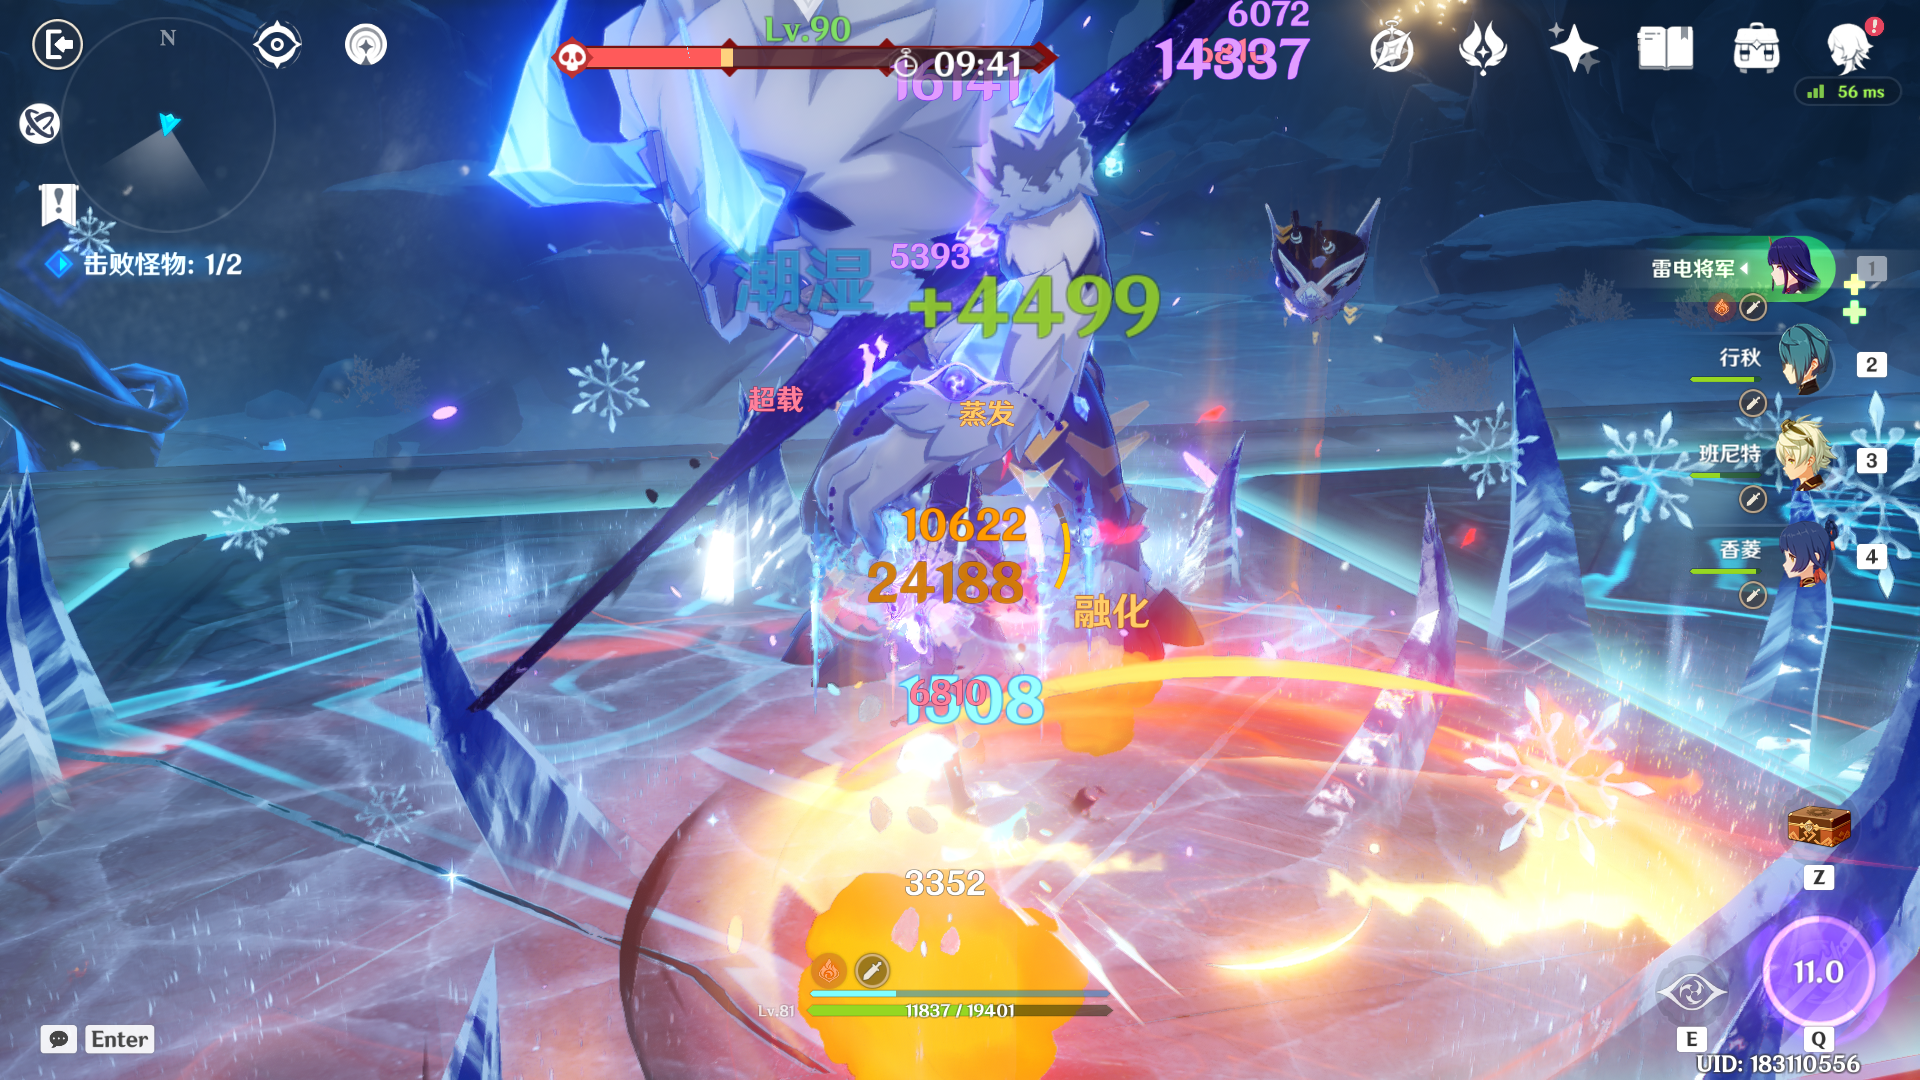bosshili: (384, 1, 1254, 732)
